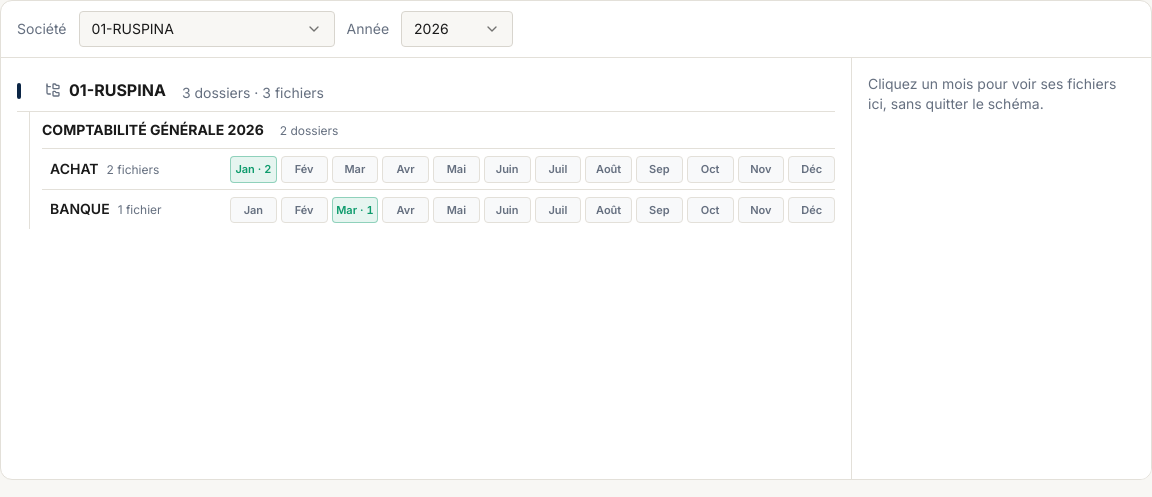
Scenario: organigramme vertical avec les mois › affiche les fichiers d'un mois dans le volet de droite, sans quitter le schéma
The width and height of the screenshot is (1152, 497).
Expected: the text "Cliquez un mois pour voir ses fichiers" is shown, [868, 75, 1116, 112]
What coordinates should you click on to do the following:
click the button "Jan · 2"
I would click on:
 (253, 169)
Its box is [230, 156, 277, 182].
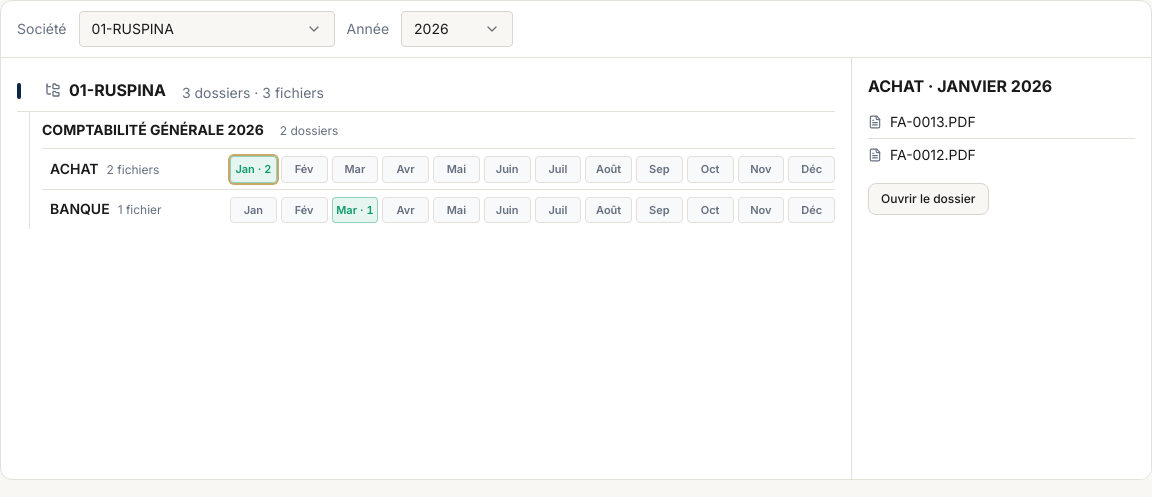
Expected: the heading "achat · Janvier 2026" is shown, [868, 76, 1052, 96]
Expected: the text "FA-0013.pdf" is shown, [890, 112, 976, 132]
Expected: the text "FA-0012.pdf" is shown, [890, 145, 976, 165]
What coordinates should you click on to do the following:
click the button "Fév" in the row of "1 fichier"
I would click on:
 (304, 210)
Its box is [281, 196, 328, 223].
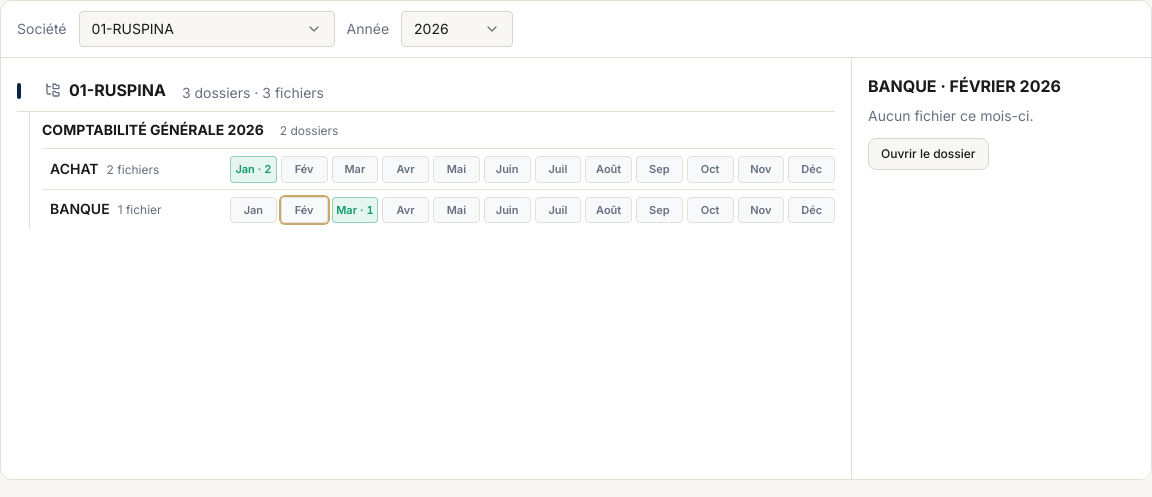
Expected: the text "Aucun fichier ce mois-ci." is shown, [868, 107, 1033, 124]
